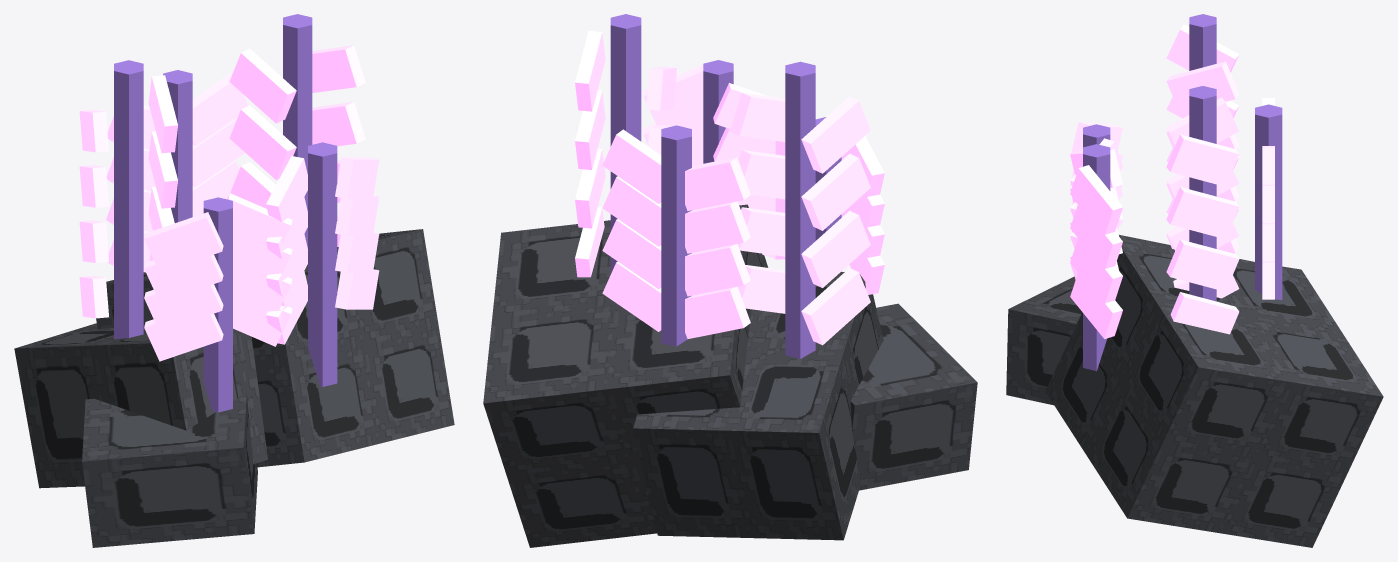
The model's file is GlowPolyps.fbx.
3 renders of one model, left to right at view 1: azimuth 30°, elevation 25°; view 2: azimuth 150°, elevation 25°; view 3: azimuth 270°, elevation 25°, orthographic. The views are drawn at different scales.
Parts seen in each view (by area): view 1: GlowPolyps, GlowPolyps_Glow; view 2: GlowPolyps, GlowPolyps_Glow; view 3: GlowPolyps, GlowPolyps_Glow.
Part boxes in pixels (x1,y1,x2,y2): GlowPolyps: (14, 14, 454, 547); GlowPolyps_Glow: (79, 45, 379, 361); GlowPolyps: (483, 14, 977, 547); GlowPolyps_Glow: (575, 31, 884, 345); GlowPolyps: (1006, 14, 1383, 547); GlowPolyps_Glow: (1070, 24, 1274, 338).
Size of the model in its own units: 407 by 460 by 357.
Materials: 2 (1 with a texture image).
